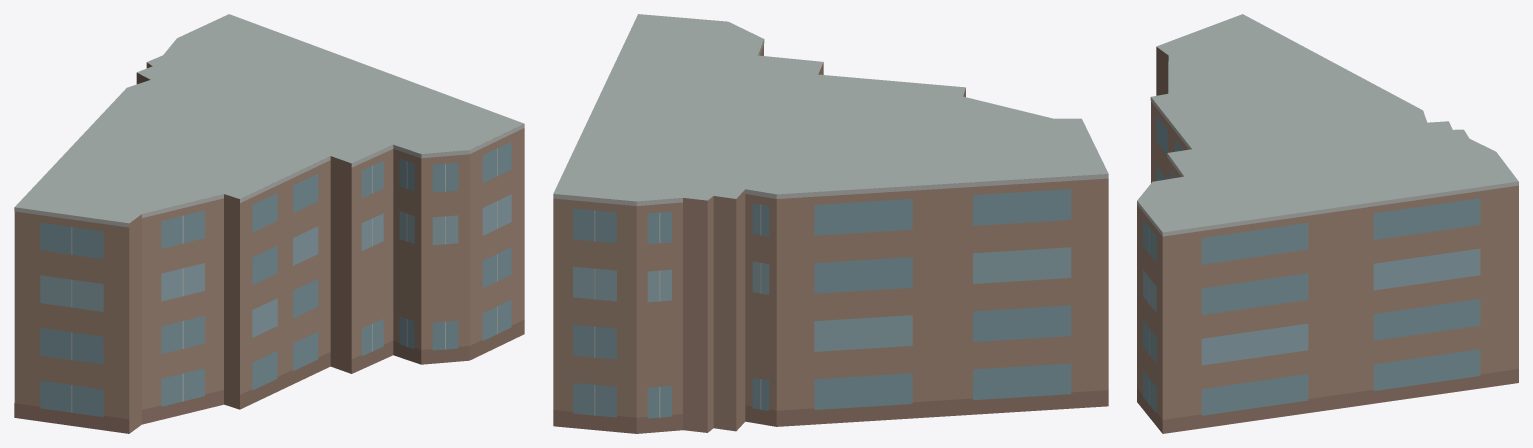
Rendered from survey-upis-32724651.glb.
The picture shows the model from 3 angles, left to right: view 1: azimuth 30°, elevation 25°; view 2: azimuth 150°, elevation 25°; view 3: azimuth 270°, elevation 25°; orthographic projection. The views are drawn at different scales.
Parts seen in each view (by area): view 1: survey-upis-32724651.tmp; view 2: survey-upis-32724651.tmp; view 3: survey-upis-32724651.tmp.
Boxes of the visible parts, <box> form: survey-upis-32724651.tmp: <box>14,14,524,433</box>; survey-upis-32724651.tmp: <box>553,14,1108,433</box>; survey-upis-32724651.tmp: <box>1137,14,1518,433</box>.
Size of the model in its own units: 28.4 by 12.2 by 20.97.
